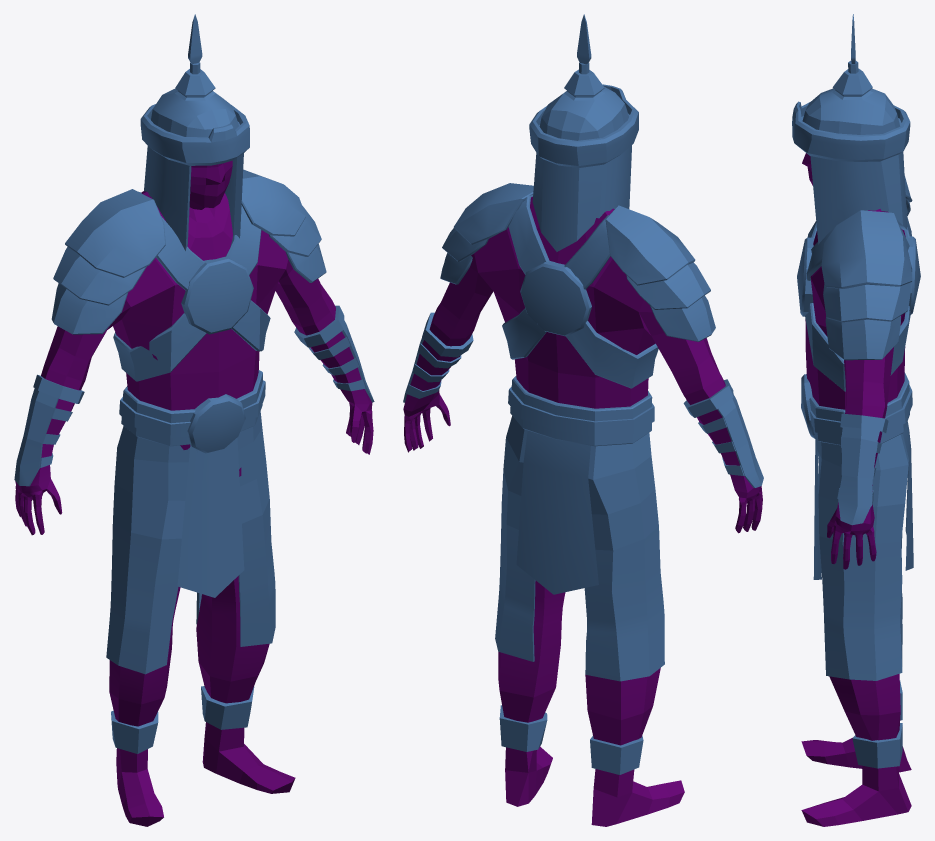
Rendered from Guard.fbx.
3 renders of one model, left to right at view 1: azimuth 30°, elevation 25°; view 2: azimuth 150°, elevation 25°; view 3: azimuth 270°, elevation 25°, orthographic.
Visible parts, largest first — view 1: GuardBody, GBottm, GSholderArmor, GBottm1, GThakiay, GBeltBody, GBeltBodyMid1, GThakiyaBot, GSholderArmor1, GSholderArmor2, GLegArmor, GArmArmor (+5 smaller); view 2: GuardBody, GBottm, GBottm2, GBeltBody, GThakiay, GSholderArmor, GThakiyaBot, GBeltBodyMid, GBelt, GLegArmor, GSholderArmor1, GSholderArmor2 (+4 smaller); view 3: GuardBody, GBottm, GThakiay, GSholderArmor, GThakiyaBot, GArmArmor, GSholderArmor1, GBeltBody, GSholderArmor2, GLegArmor, GBelt, GBelt1 (+6 smaller).
Boxes of the visible parts, x1,y1,x2,y2 form: GuardBody: [15, 160, 373, 826]; GBottm: [106, 411, 275, 674]; GSholderArmor: [65, 169, 305, 277]; GBottm1: [177, 438, 244, 597]; GThakiay: [140, 62, 249, 165]; GBeltBody: [113, 191, 270, 381]; GBeltBodyMid1: [181, 256, 253, 334]; GThakiyaBot: [144, 146, 243, 250]; GSholderArmor1: [53, 205, 321, 305]; GSholderArmor2: [51, 244, 326, 334]; GLegArmor: [111, 686, 254, 753]; GArmArmor: [14, 320, 374, 486]; GuardBody: [403, 196, 762, 826]; GBottm: [495, 416, 664, 681]; GBottm2: [516, 430, 598, 594]; GBeltBody: [502, 195, 658, 388]; GThakiay: [529, 62, 638, 167]; GSholderArmor: [453, 183, 695, 285]; GThakiyaBot: [532, 145, 631, 251]; GBeltBodyMid: [520, 261, 591, 336]; GBelt: [510, 376, 652, 446]; GLegArmor: [499, 705, 643, 774]; GSholderArmor1: [442, 228, 710, 309]; GSholderArmor2: [440, 253, 715, 341]; GuardBody: [801, 153, 911, 826]; GBottm: [816, 433, 908, 680]; GThakiay: [792, 60, 910, 161]; GSholderArmor: [821, 176, 912, 288]; GThakiyaBot: [810, 152, 907, 244]; GArmArmor: [838, 426, 879, 525]; GSholderArmor1: [823, 199, 910, 322]; GBeltBody: [805, 212, 911, 391]; GSholderArmor2: [825, 315, 900, 360]; GLegArmor: [852, 680, 902, 768]; GBelt: [809, 372, 909, 445]; GBelt1: [810, 385, 912, 436].
Size of the model in its own units: 8.61 by 18.14 by 2.74.
